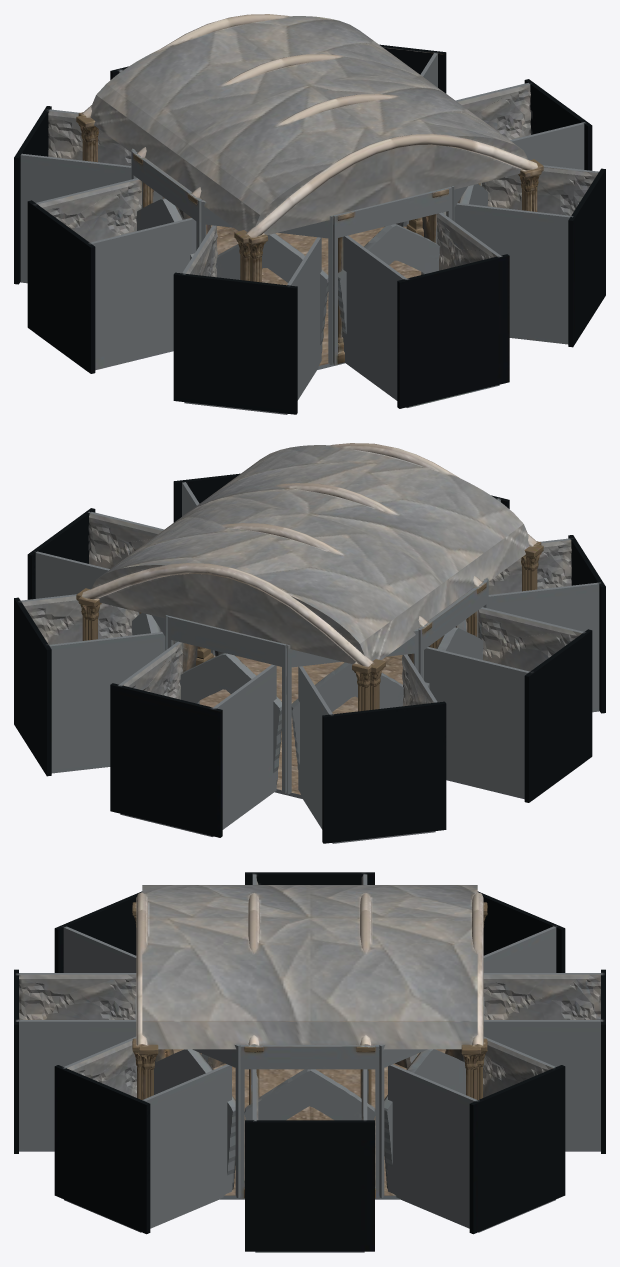
File: room.glb
The picture shows the model from 3 angles, top to bottom: view 1: azimuth 30°, elevation 25°; view 2: azimuth 150°, elevation 25°; view 3: azimuth 270°, elevation 25°; orthographic projection. The views are drawn at different scales.
Parts seen in each view (by area): view 1: DIAMOND-8; view 2: DIAMOND-8; view 3: DIAMOND-8.
Boxes of the visible parts, x1,y1,x2,y2 form: DIAMOND-8: (14, 14, 605, 414); DIAMOND-8: (14, 443, 605, 843); DIAMOND-8: (14, 872, 605, 1252).
Size of the model in its own units: 14.12 by 5.75 by 14.12.
Materials: 1 (1 with a texture image).
